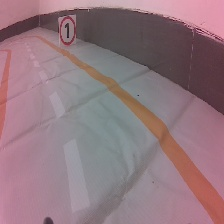limit: (56, 14, 78, 49)
